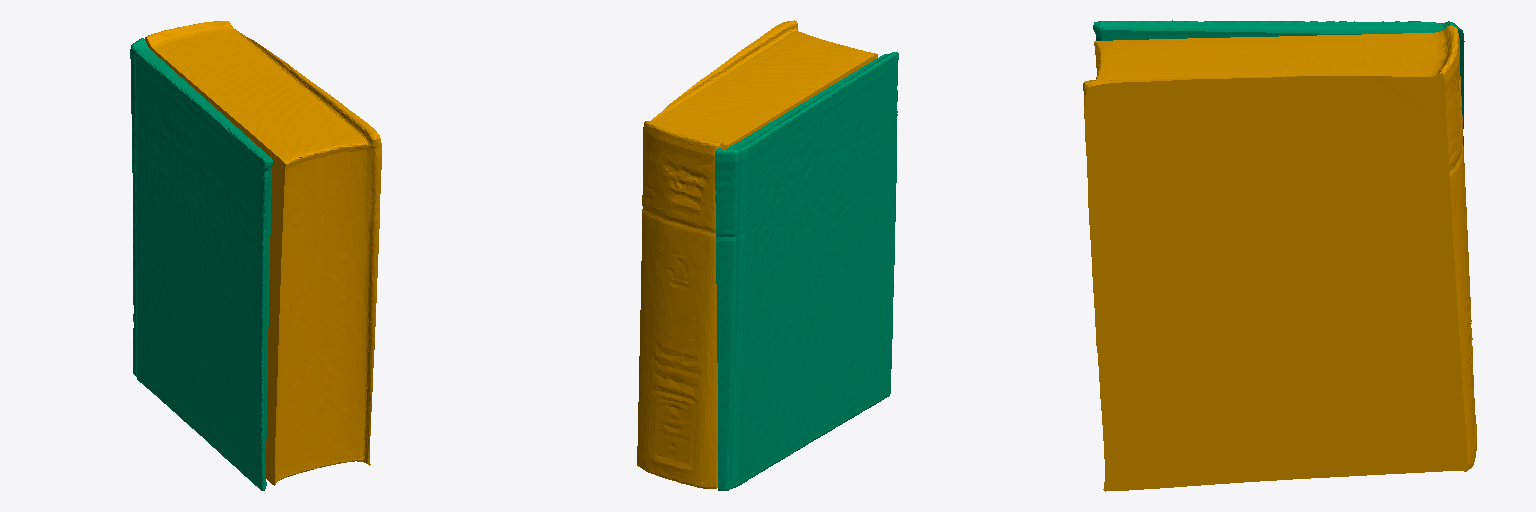
URDF robot description (book):
<?xml version="1.0"?>
<robot name="book">
  <link name ="rb0">
    <visual>
      <origin xyz='0.127528 -0.021424 -0.126922' rpy='-0.049208 -1.379315 -1.552577'/>
      <geometry>
        <mesh filename="package://articulated_objects_db/data/objects/book/meshes/book_bottom.obj"  scale="1 1 1" />
      </geometry>
    </visual>
  </link>
  <joint name="j_0_1" type="revolute">
    <parent link="rb0"/>
    <child link="rb1"/>
    <origin xyz="-0.0127840336627 0.0963514984799 -0.107921289496" rpy="0 0 0 "/>
    <axis xyz="0.0778795231616 0.0208040311173 0.996745690817"/>
    <limit effort="30" velocity="1.0" lower="-3.1416" upper="3.1416"/>
  </joint>
  <joint name="j_0_fixed" type="fixed">
    <parent link="rb1"/>
    <child link="rb1_marker"/>
      <origin xyz="-0.036085312533 -0.212611250033 0.0068916262335" rpy="1.56680366634 -0.0173914329961 1.39385734846"/>
    <limit effort="30" velocity="1.0" lower="-3.1416" upper="3.1416"/>
  </joint>
  <link name ="rb1">
  </link>
  <link name ="rb1_marker">
    <visual>
      <origin xyz='0.112065 -0.028672 0.076906' rpy='1.674489 -0.030900 1.717519'/>
      <geometry>
        <mesh filename="package://articulated_objects_db/data/objects/book/meshes/book_top.obj"  scale="1 1 1" />
      </geometry>
    </visual>
  </link>
</robot>

--- Render facts (derived) ---
The picture shows the robot from 3 angles, left to right: view 1: azimuth 30°, elevation 25°; view 2: azimuth 150°, elevation 25°; view 3: azimuth 270°, elevation 25°; orthographic projection.
Model book with 3 links and 2 joints (1 revolute, 1 fixed), rooted at rb0, posed all joints at 0.
Visible links, largest first — view 1: rb0, rb1_marker; view 2: rb1_marker, rb0; view 3: rb0, rb1_marker.
Boxes of the visible links, left/top/right/bottom form: rb0: left=145, top=21, right=381, bottom=485; rb1_marker: left=130, top=38, right=272, bottom=490; rb1_marker: left=715, top=52, right=898, bottom=490; rb0: left=637, top=20, right=877, bottom=488; rb0: left=1083, top=25, right=1476, bottom=491; rb1_marker: left=1093, top=20, right=1464, bottom=145.
Bounding box of the posed robot: 0.0881 × 0.2181 × 0.2569 m (x, y, z).
2 mesh visuals loaded from 2 distinct referenced files (2 OBJ).